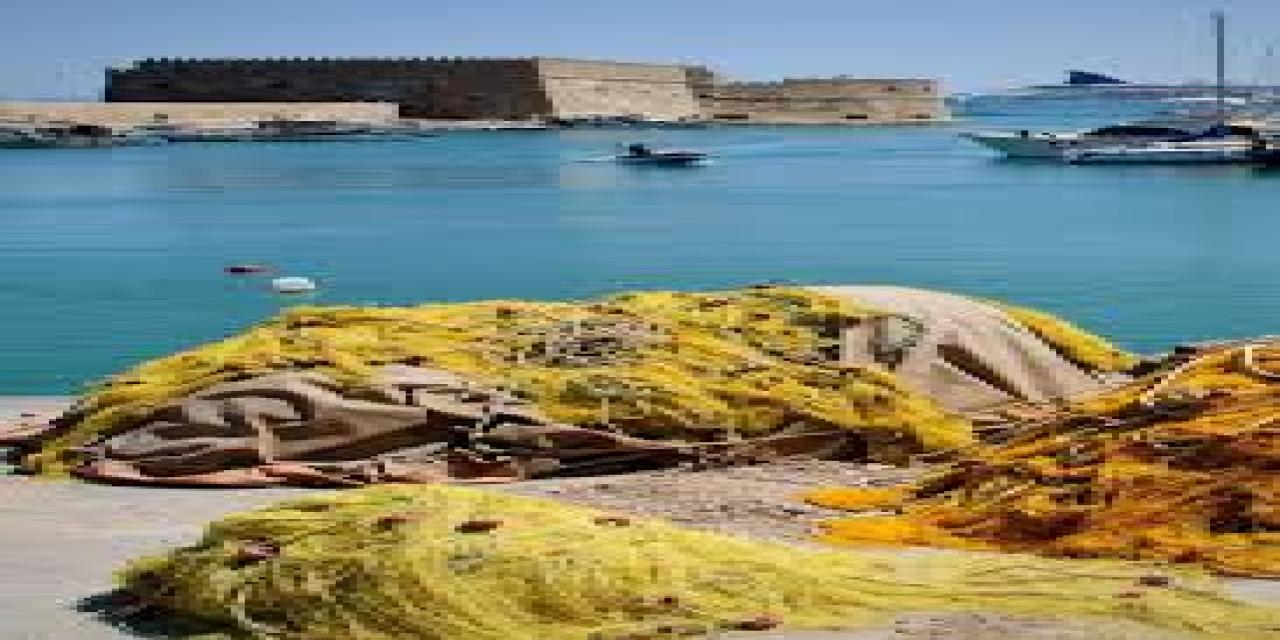Kules: (98, 57, 961, 130)
